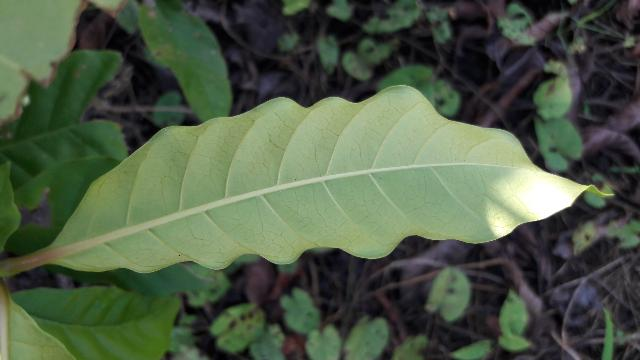healthy: (37, 86, 602, 275)
